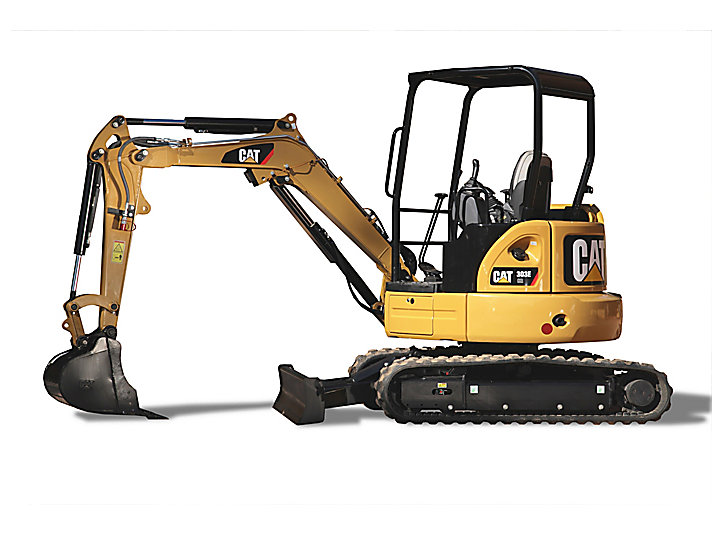backhoe: (44, 56, 673, 422)
